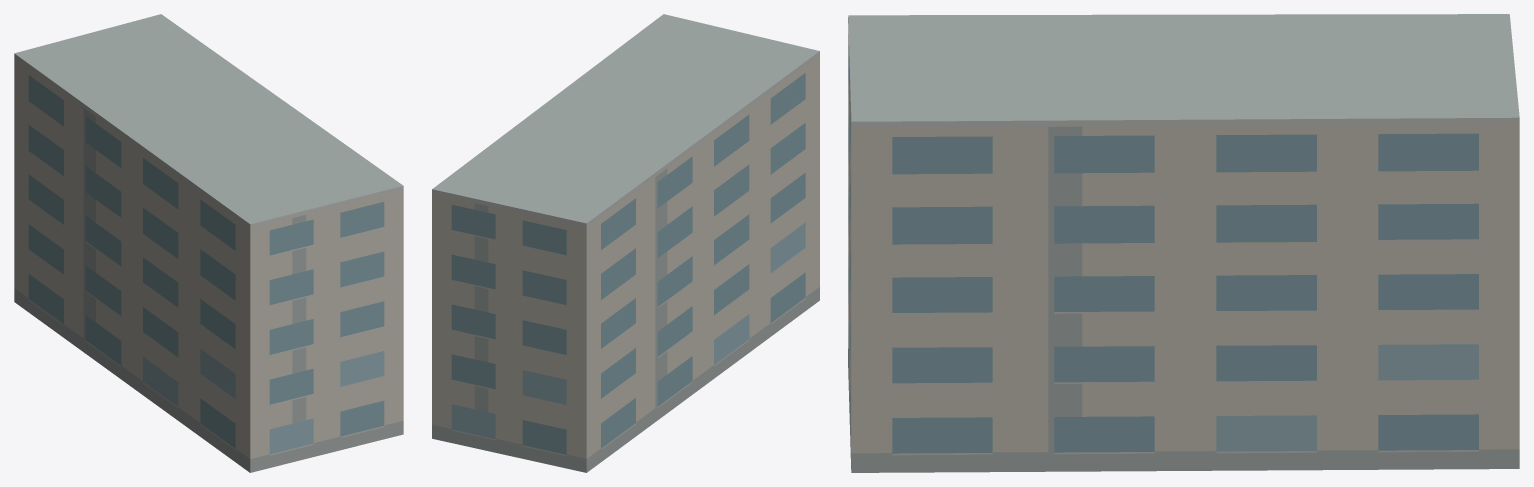
The model's file is survey-upis-32532267.glb.
The picture shows the model from 3 angles, left to right: view 1: azimuth 30°, elevation 25°; view 2: azimuth 150°, elevation 25°; view 3: azimuth 270°, elevation 25°; orthographic projection. The views are drawn at different scales.
Visible parts, largest first — view 1: survey-upis-32532267.tmp; view 2: survey-upis-32532267.tmp; view 3: survey-upis-32532267.tmp.
Boxes of the visible parts, <box> form: survey-upis-32532267.tmp: <box>14,14,403,472</box>; survey-upis-32532267.tmp: <box>432,14,819,472</box>; survey-upis-32532267.tmp: <box>848,14,1519,472</box>.
Size of the model in its own units: 8.96 by 13.6 by 23.58.
